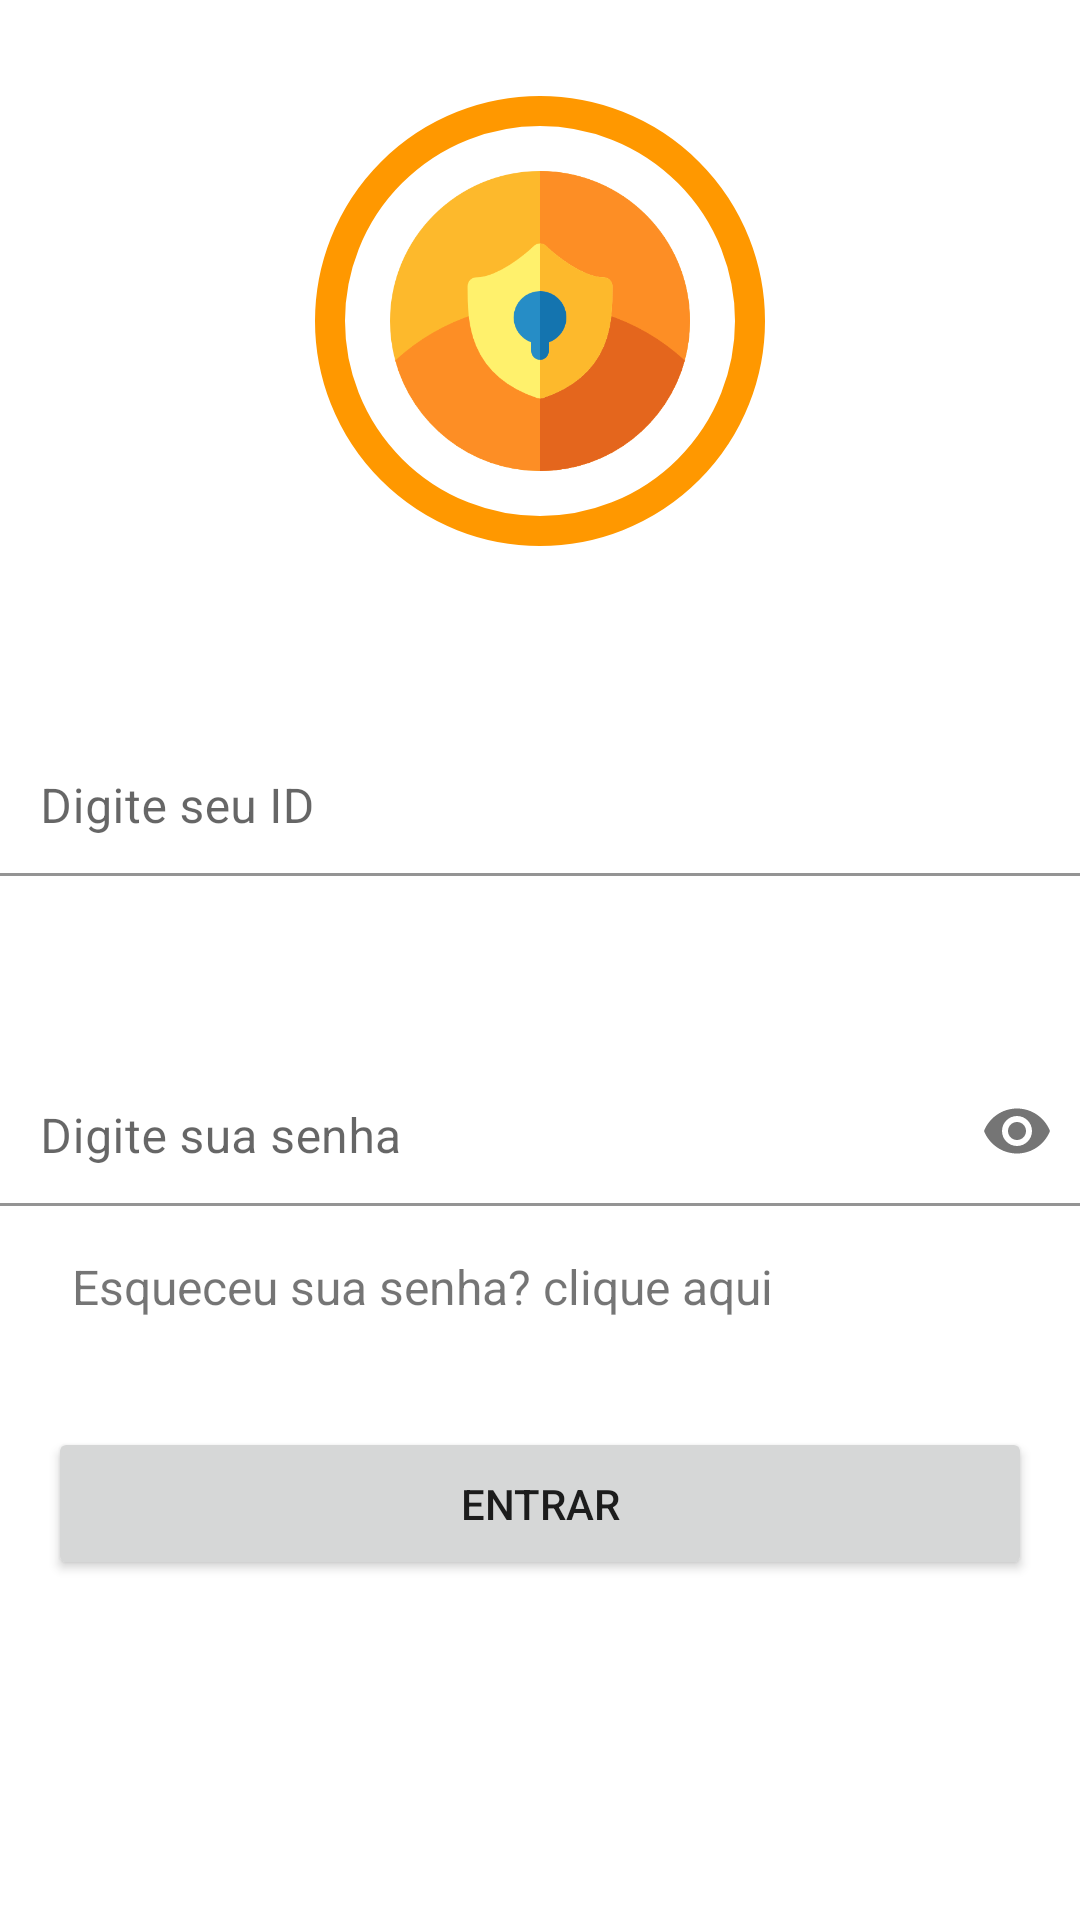

Named icons in this screenshot (1080*1920) and their bounding boxes, {"x1": x1, "y1": y1, "x2": x2, "y2": y2}:
login: {"x1": 390, "y1": 171, "x2": 690, "y2": 471}
